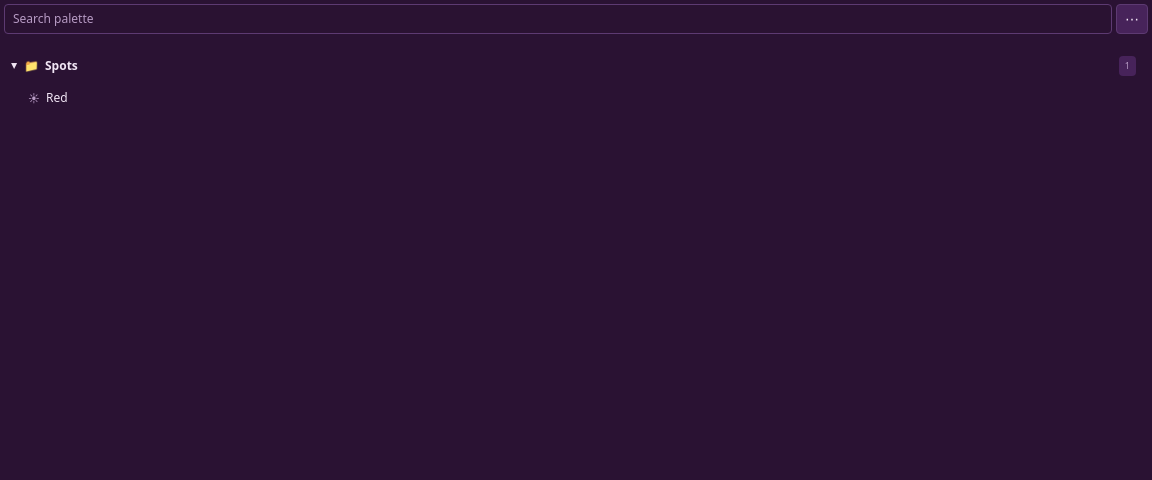
it: palette rename keyboard paths › creating a preset into a collapsed group expands it and focuses the rename
Click the list item "▸ 📁 Spots 1".
click(576, 66)  # box [4,50,1148,82]
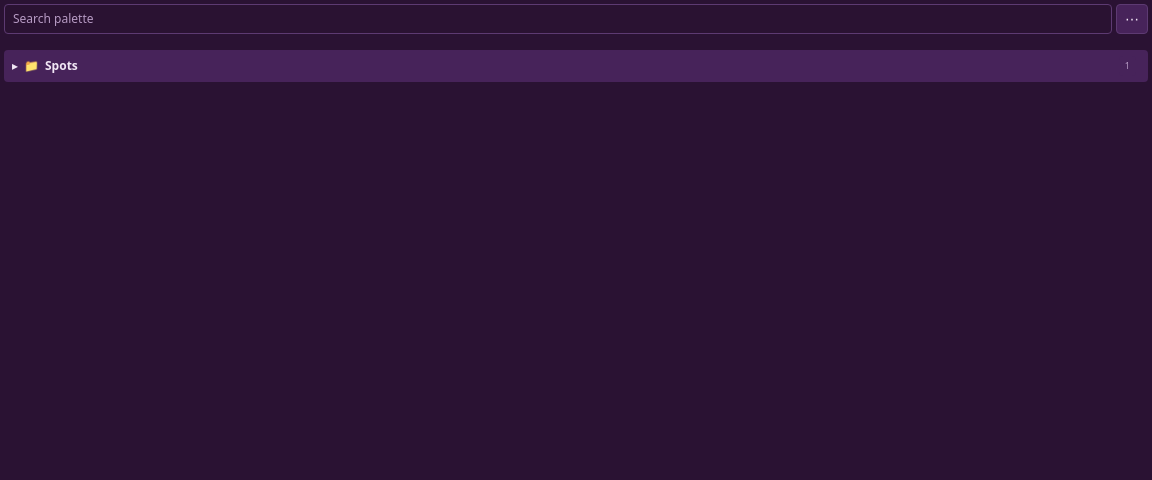
Right-click the list item "▸ 📁 Spots 1".
right_click(576, 66)  # box [4,50,1148,82]
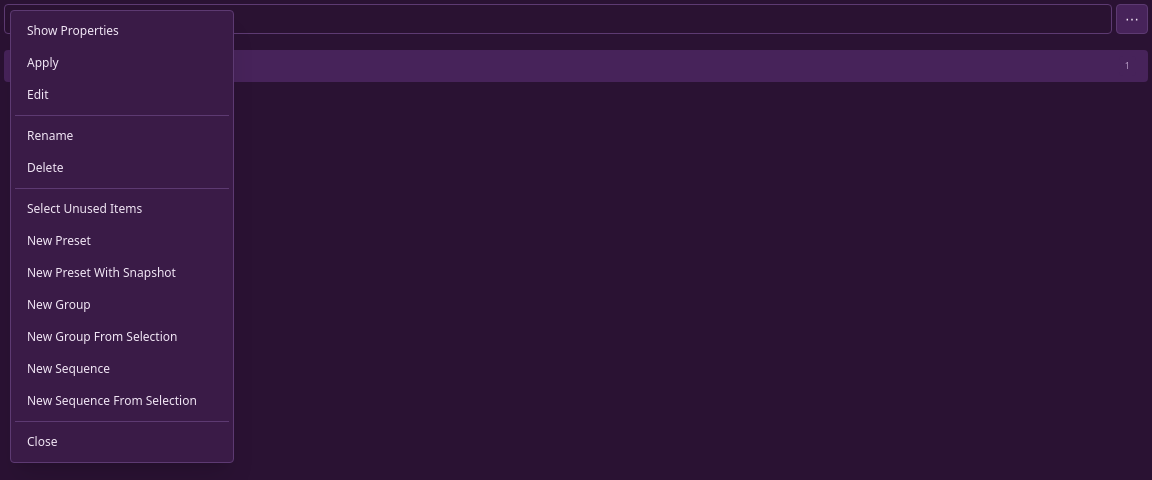
Result: the menu item "New Preset" is shown
Click the menu item "New Preset".
click(122, 241)  # box [15,225,229,257]
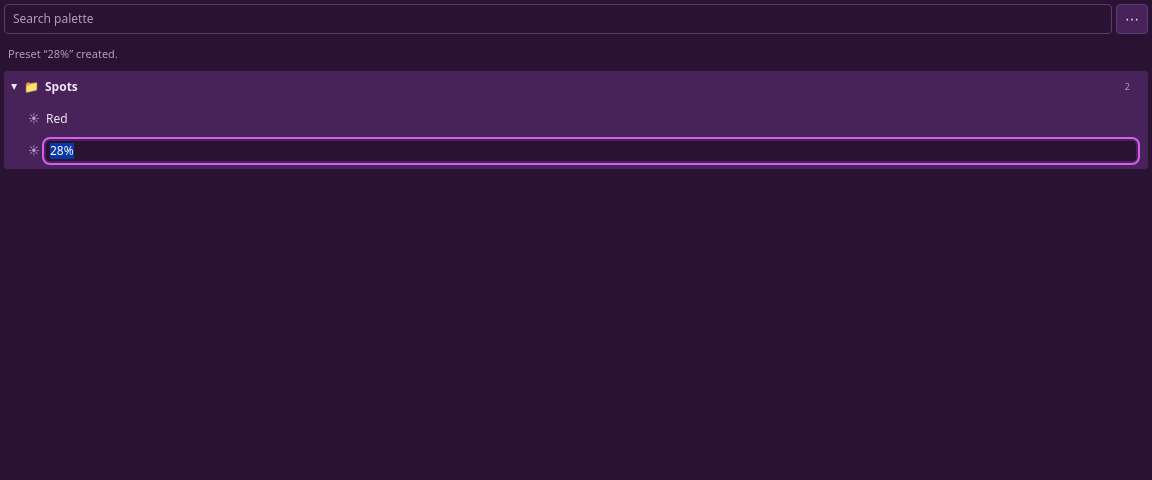
Result: the element showing "☀ Red" is shown at [20,104,1148,132]
Result: the field named "Rename preset" holds "28%" at [46,140,1136,160]
